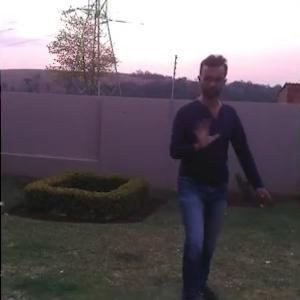follow_hand: (191, 113, 221, 149)
